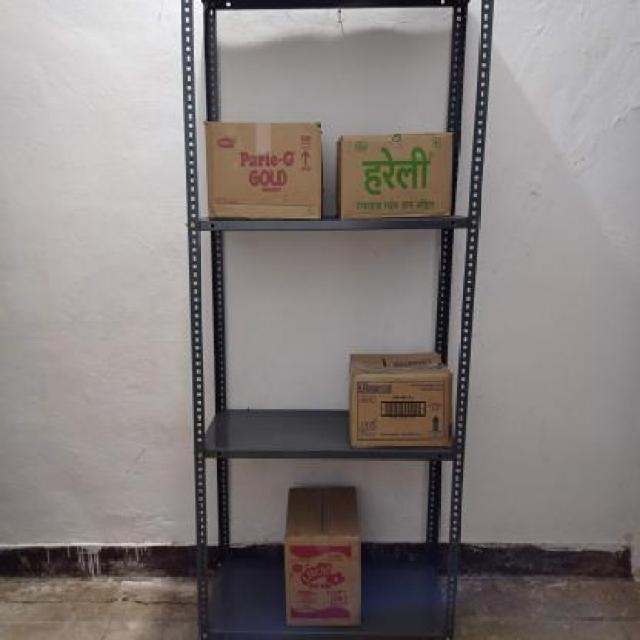box: (204, 120, 322, 218), (338, 134, 453, 218), (349, 374, 454, 450), (284, 534, 360, 631)
